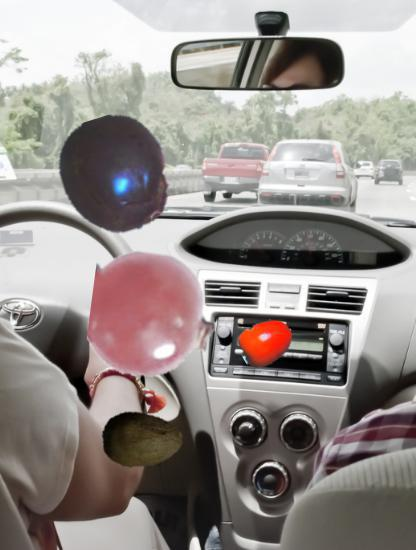Kaki: (238, 314, 295, 371)
Papaya: (101, 399, 184, 482)
Passion: (55, 115, 177, 237)
Redcurrant: (90, 251, 218, 379)
